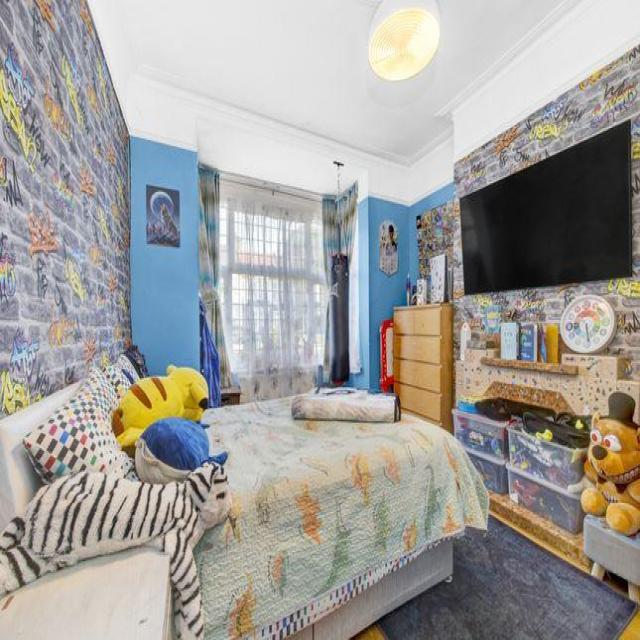Wall: (91, 0, 640, 205), (115, 0, 574, 162), (0, 0, 130, 417), (454, 46, 640, 297), (356, 516, 640, 638), (454, 276, 640, 380), (130, 137, 199, 375), (367, 184, 452, 314), (350, 197, 394, 389), (145, 184, 182, 249)
